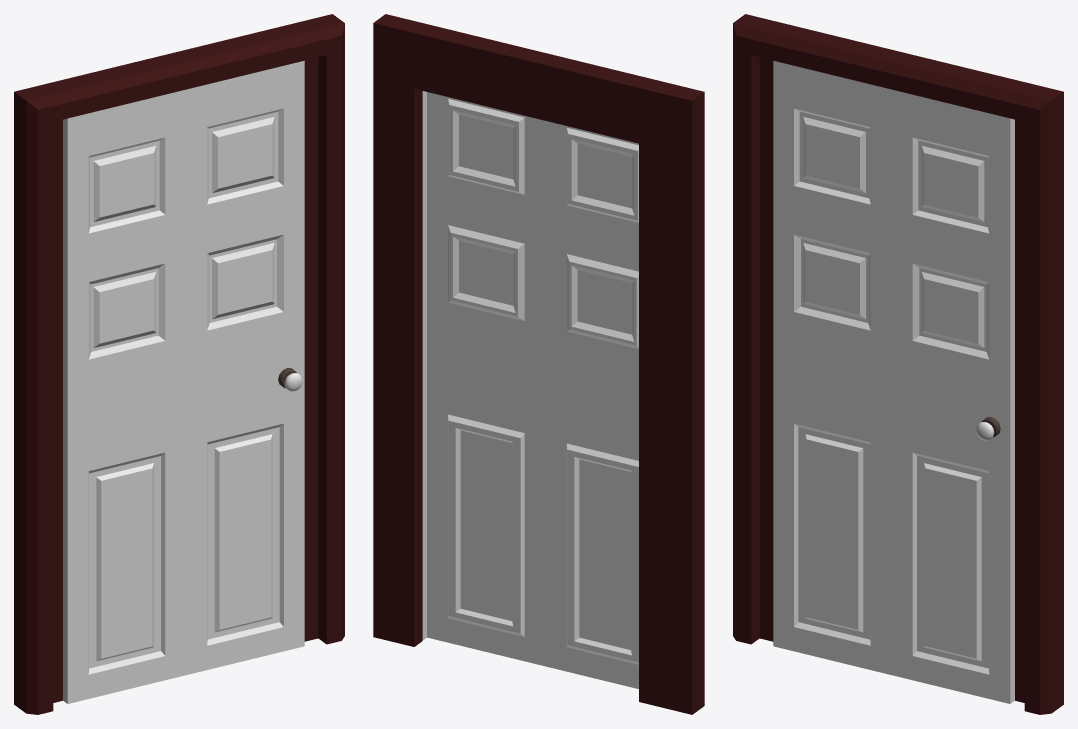
File: SM_Door.fbx
3 views of the same model, side by side, from view 1: azimuth 30°, elevation 25°; view 2: azimuth 150°, elevation 25°; view 3: azimuth 330°, elevation 25° (orthographic).
Visible parts, largest first — view 1: Corridor_Door_pCube9, pCube10; view 2: Corridor_Door_pCube9, pCube10; view 3: Corridor_Door_pCube9, pCube10.
Part boxes in pixels (left/top/right/bottom): Corridor_Door_pCube9: left=63, top=60, right=304, bottom=703; pCube10: left=14, top=14, right=344, bottom=714; Corridor_Door_pCube9: left=422, top=91, right=638, bottom=688; pCube10: left=373, top=14, right=704, bottom=714; Corridor_Door_pCube9: left=773, top=60, right=1014, bottom=703; pCube10: left=733, top=14, right=1063, bottom=714.
Size of the model in its own units: 2.46 by 4.52 by 0.3037.
